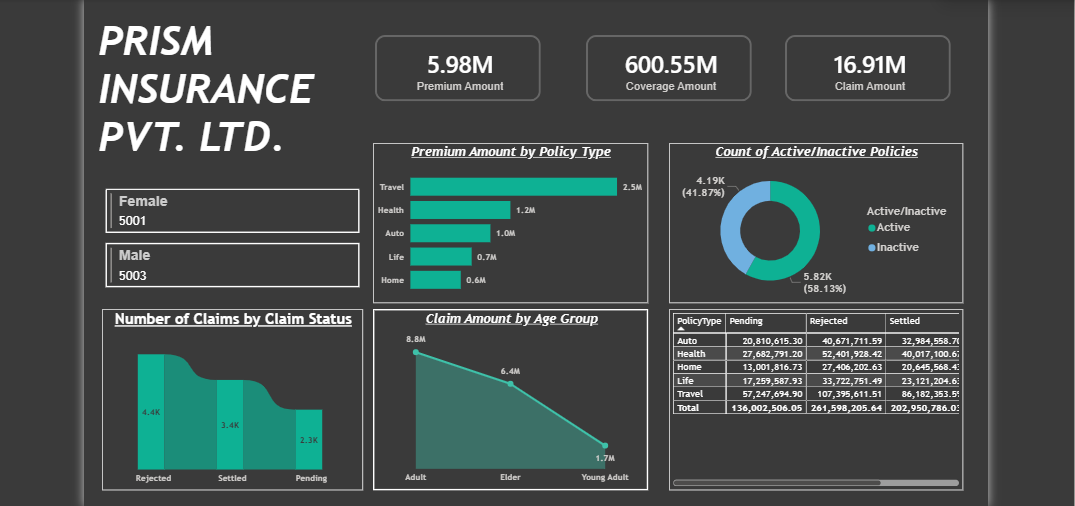

The page's visual inventory and layout, read from the dashboard file:
{"tool":"powerbi","page":{"name":"Dashboard","canvas":[1280,720],"ordinal":0},"visuals":[{"type":"textbox","box":[15.6,19.8,379.8,226.8],"z":3000},{"type":"cardVisual","fields":{"Data":["Sum(InsuranceData.PremiumAmount)"]},"box":[395.4,34,269.3,129],"z":4000},{"type":"cardVisual","fields":{"Data":["Sum(InsuranceData.CoverageAmount)"]},"box":[694.5,34,269.3,129],"z":5000},{"type":"cardVisual","fields":{"Data":["Sum(InsuranceData.ClaimAmount)"]},"box":[963.8,34,269.3,129],"z":6000},{"type":"multiRowCard","fields":{"Values":["InsuranceData.Gender","CountNonNull(InsuranceData.Gender)"]},"box":[25.5,263.6,369.9,157.3],"z":7000},{"type":"ribbonChart","title":"Number of Claims by Claim Status","fields":{"Category":["InsuranceData.ClaimStatus"],"Y":["CountNonNull(InsuranceData.ClaimStatus)"]},"box":[25.5,430.9,369.9,265],"z":8000},{"type":"barChart","title":"Premium Amount by Policy Type","fields":{"Category":["InsuranceData.PolicyType"],"Y":["Sum(InsuranceData.PremiumAmount)"]},"box":[409.6,211.2,401.1,226.8],"z":9000},{"type":"lineChart","title":"Claim Amount by Age Group","fields":{"Category":["InsuranceData.Age Group"],"Y":["Sum(InsuranceData.ClaimAmount)"]},"box":[409.6,449.3,401.1,246.6],"z":10000},{"type":"donutChart","title":"Count of Active/Inactive Policies","fields":{"Category":["InsuranceData.Active/Inactive"],"Y":["CountNonNull(InsuranceData.Active/Inactive)"]},"box":[829.1,211.2,416.7,226.8],"z":11000},{"type":"pivotTable","fields":{"Values":["Sum(InsuranceData.CoverageAmount)"],"Rows":["InsuranceData.PolicyType"],"Columns":["InsuranceData.ClaimStatus"]},"box":[829.1,449.3,416.7,246.6],"z":12000}]}

Visuals, with their boxes on the page's 1280x720 design canvas (x1, y1, x2, y2). These are canvas units, not pixel positions in the 1075x506 screenshot, which may show the page scaled, cropped or inside an application window:
textbox: 16/20/395/247
cardVisual - Sum(InsuranceData.PremiumAmount): 395/34/665/163
cardVisual - Sum(InsuranceData.CoverageAmount): 694/34/964/163
cardVisual - Sum(InsuranceData.ClaimAmount): 964/34/1233/163
multiRowCard - InsuranceData.Gender x CountNonNull(InsuranceData.Gender): 26/264/395/421
"Number of Claims by Claim Status" ribbonChart: 26/431/395/696
"Premium Amount by Policy Type" barChart: 410/211/811/438
"Claim Amount by Age Group" lineChart: 410/449/811/696
"Count of Active/Inactive Policies" donutChart: 829/211/1246/438
pivotTable - Sum(InsuranceData.CoverageAmount) x InsuranceData.PolicyType: 829/449/1246/696
